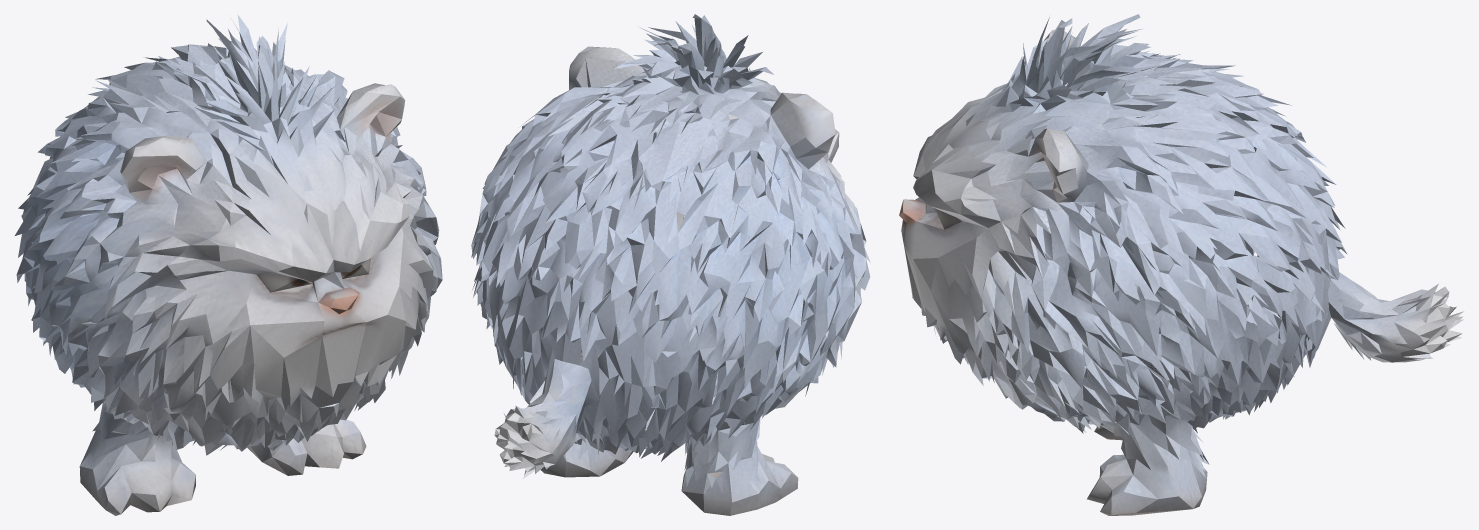
The picture shows the model from 3 angles, left to right: view 1: azimuth 30°, elevation 25°; view 2: azimuth 150°, elevation 25°; view 3: azimuth 270°, elevation 25°; orthographic projection. The views are drawn at different scales.
Visible parts, largest first — view 1: Mesh_0; view 2: Mesh_0; view 3: Mesh_0.
Boxes of the visible parts, <box> form: Mesh_0: <box>15,14,442,515</box>; Mesh_0: <box>471,14,870,515</box>; Mesh_0: <box>899,14,1464,515</box>.
Size of the model in its own units: 1.36 by 1.62 by 1.87.
1 material, 1 textured.
